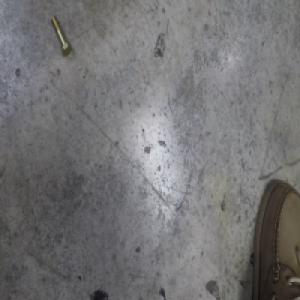Bolt: (51, 13, 72, 57)
